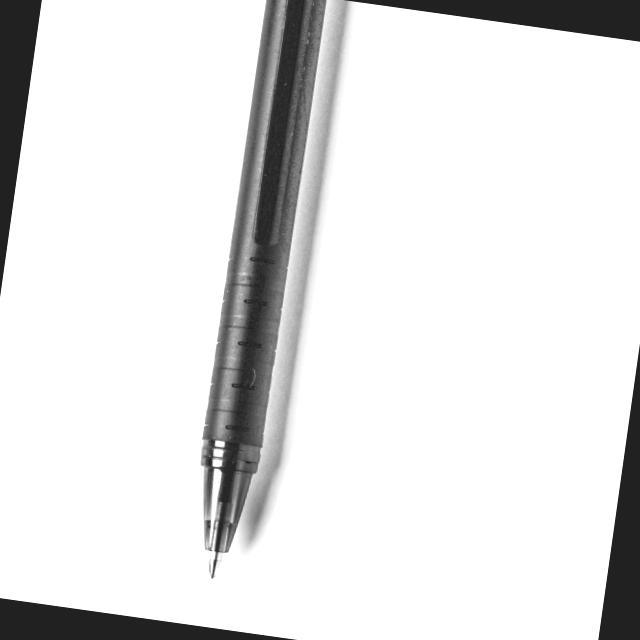Pen: (166, 0, 333, 595)
